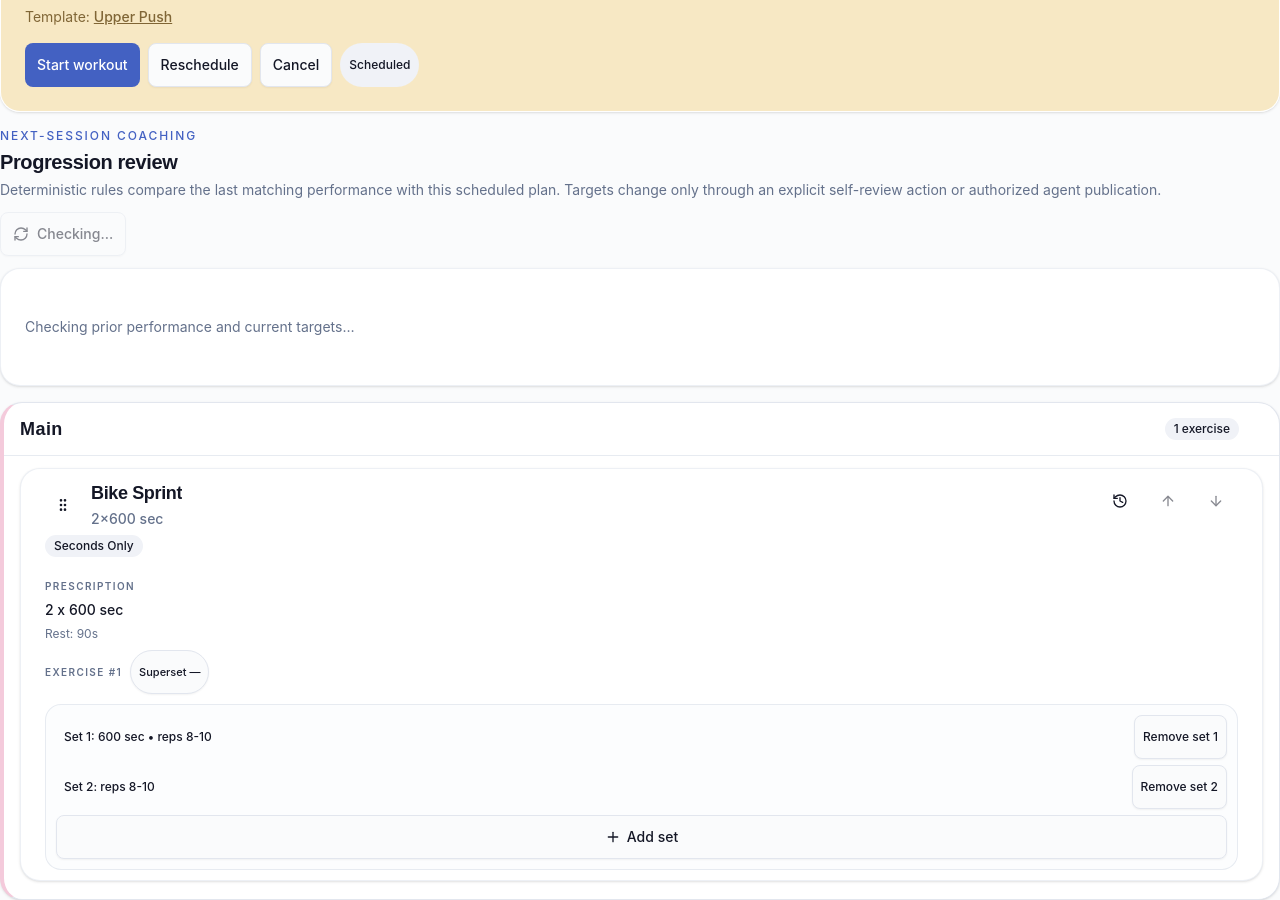
Test: ScheduledWorkoutDetail › edits set targets through the set editor modal and saves to exercise-sets
(page scrolled)
Click the button "Set 2: reps 8-10": click(109, 786) [56,769,1124,805]
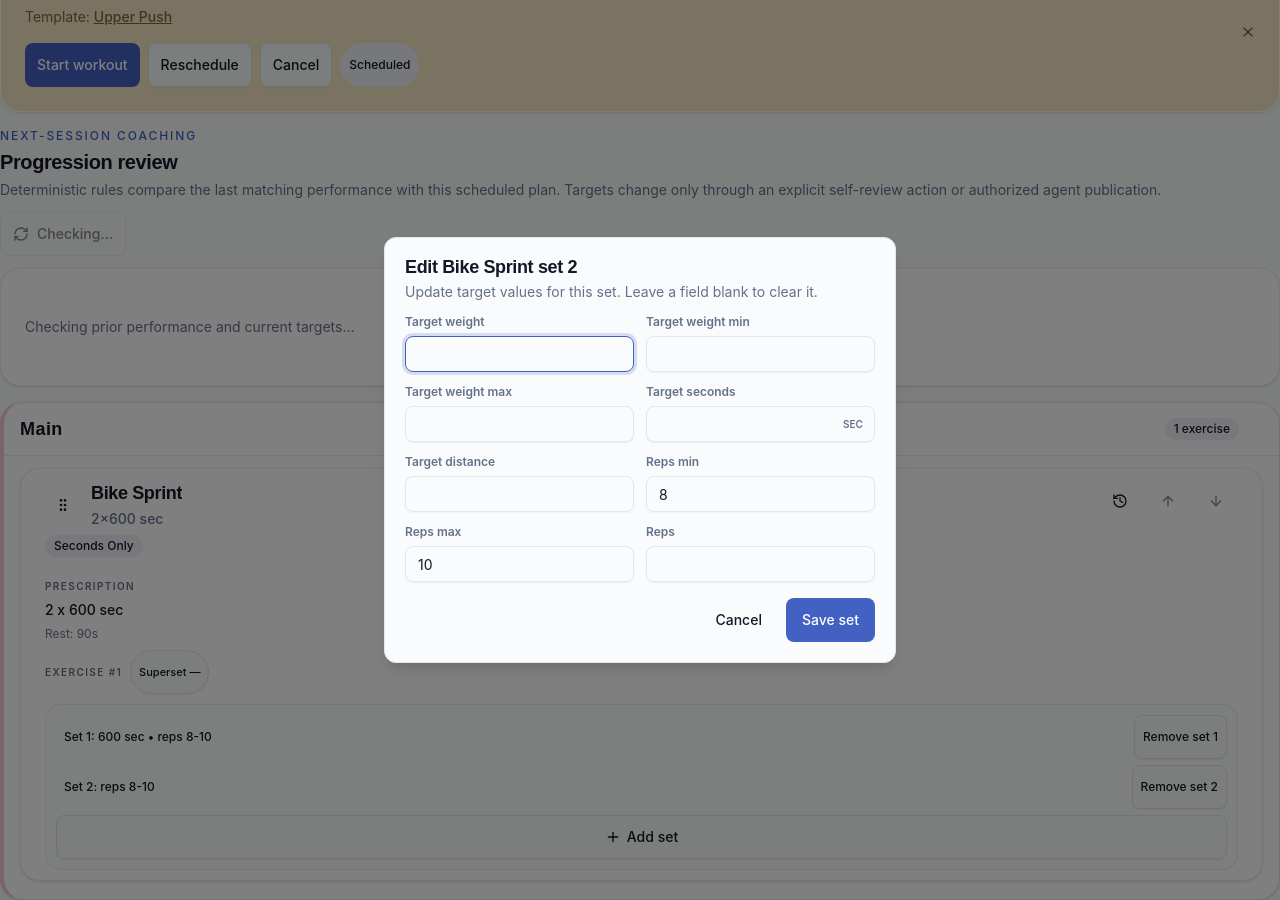
In the number field labelled "Target seconds": (760, 424) [646,406,875,442], type "720"
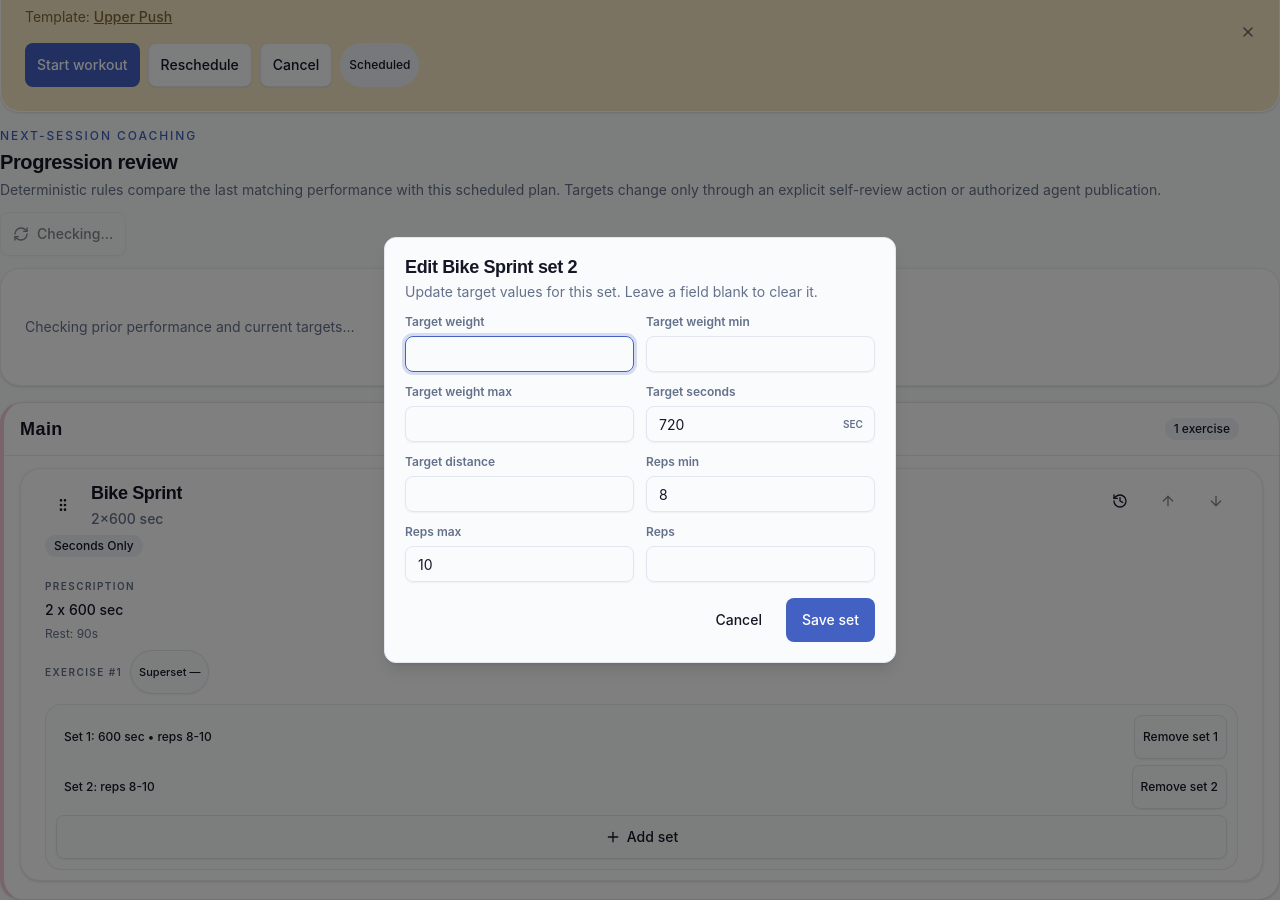
Click the button "Save set": click(830, 620) [786,598,875,642]
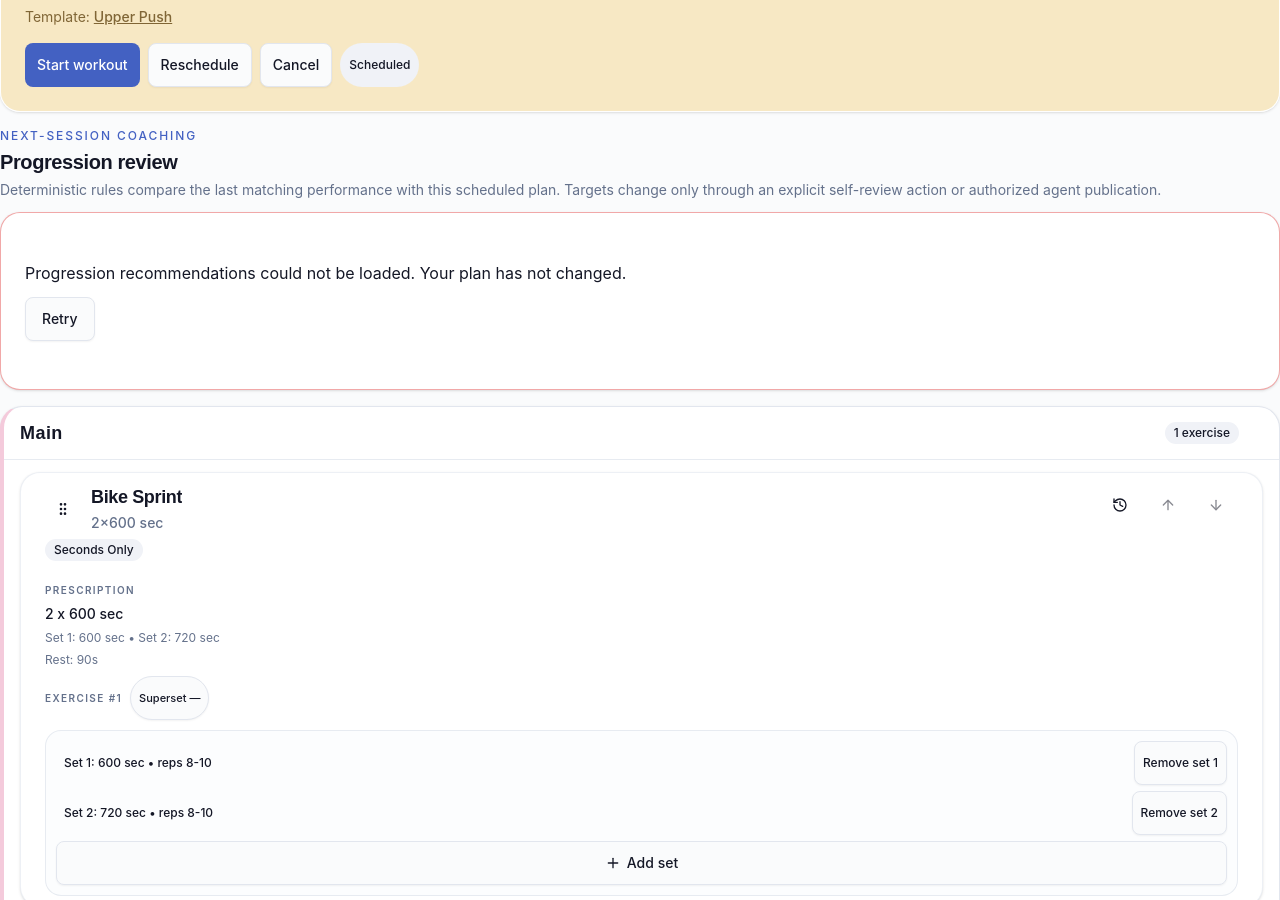
expect the button "Set 2: 720 sec • reps 8-10" is shown: met, box [56,795,1124,831]
